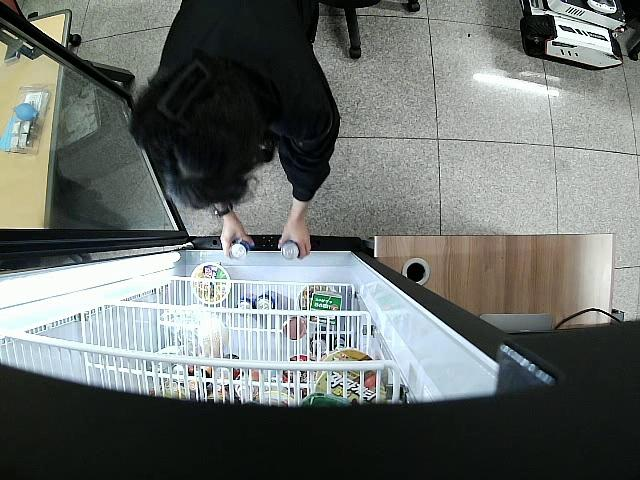00_hand: (219, 219, 255, 257), (277, 222, 312, 259)
15_letsbe: (229, 239, 250, 260), (281, 239, 301, 261)
